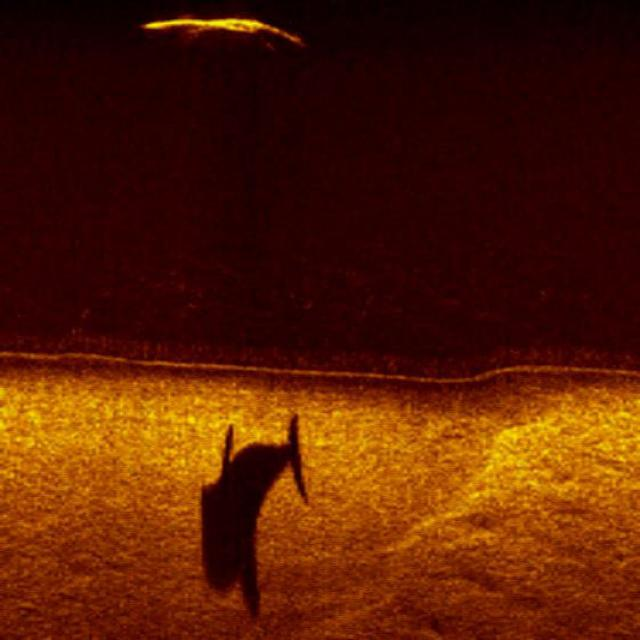fish: (141, 9, 316, 64)
